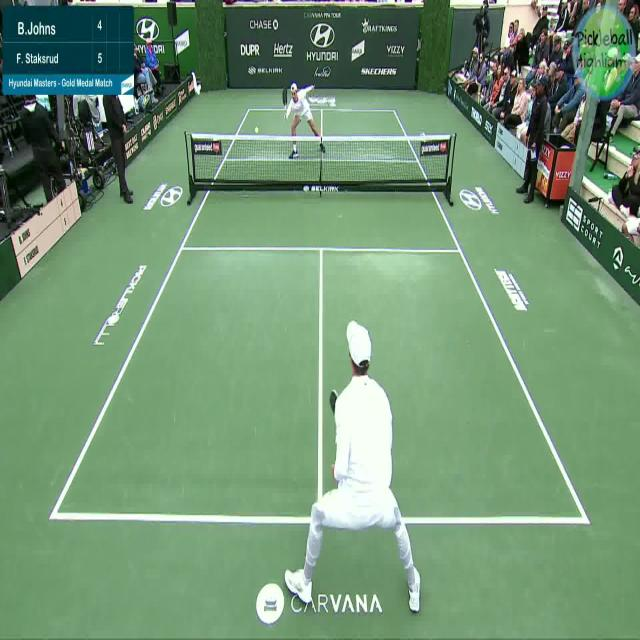ball: (252, 120, 263, 140)
